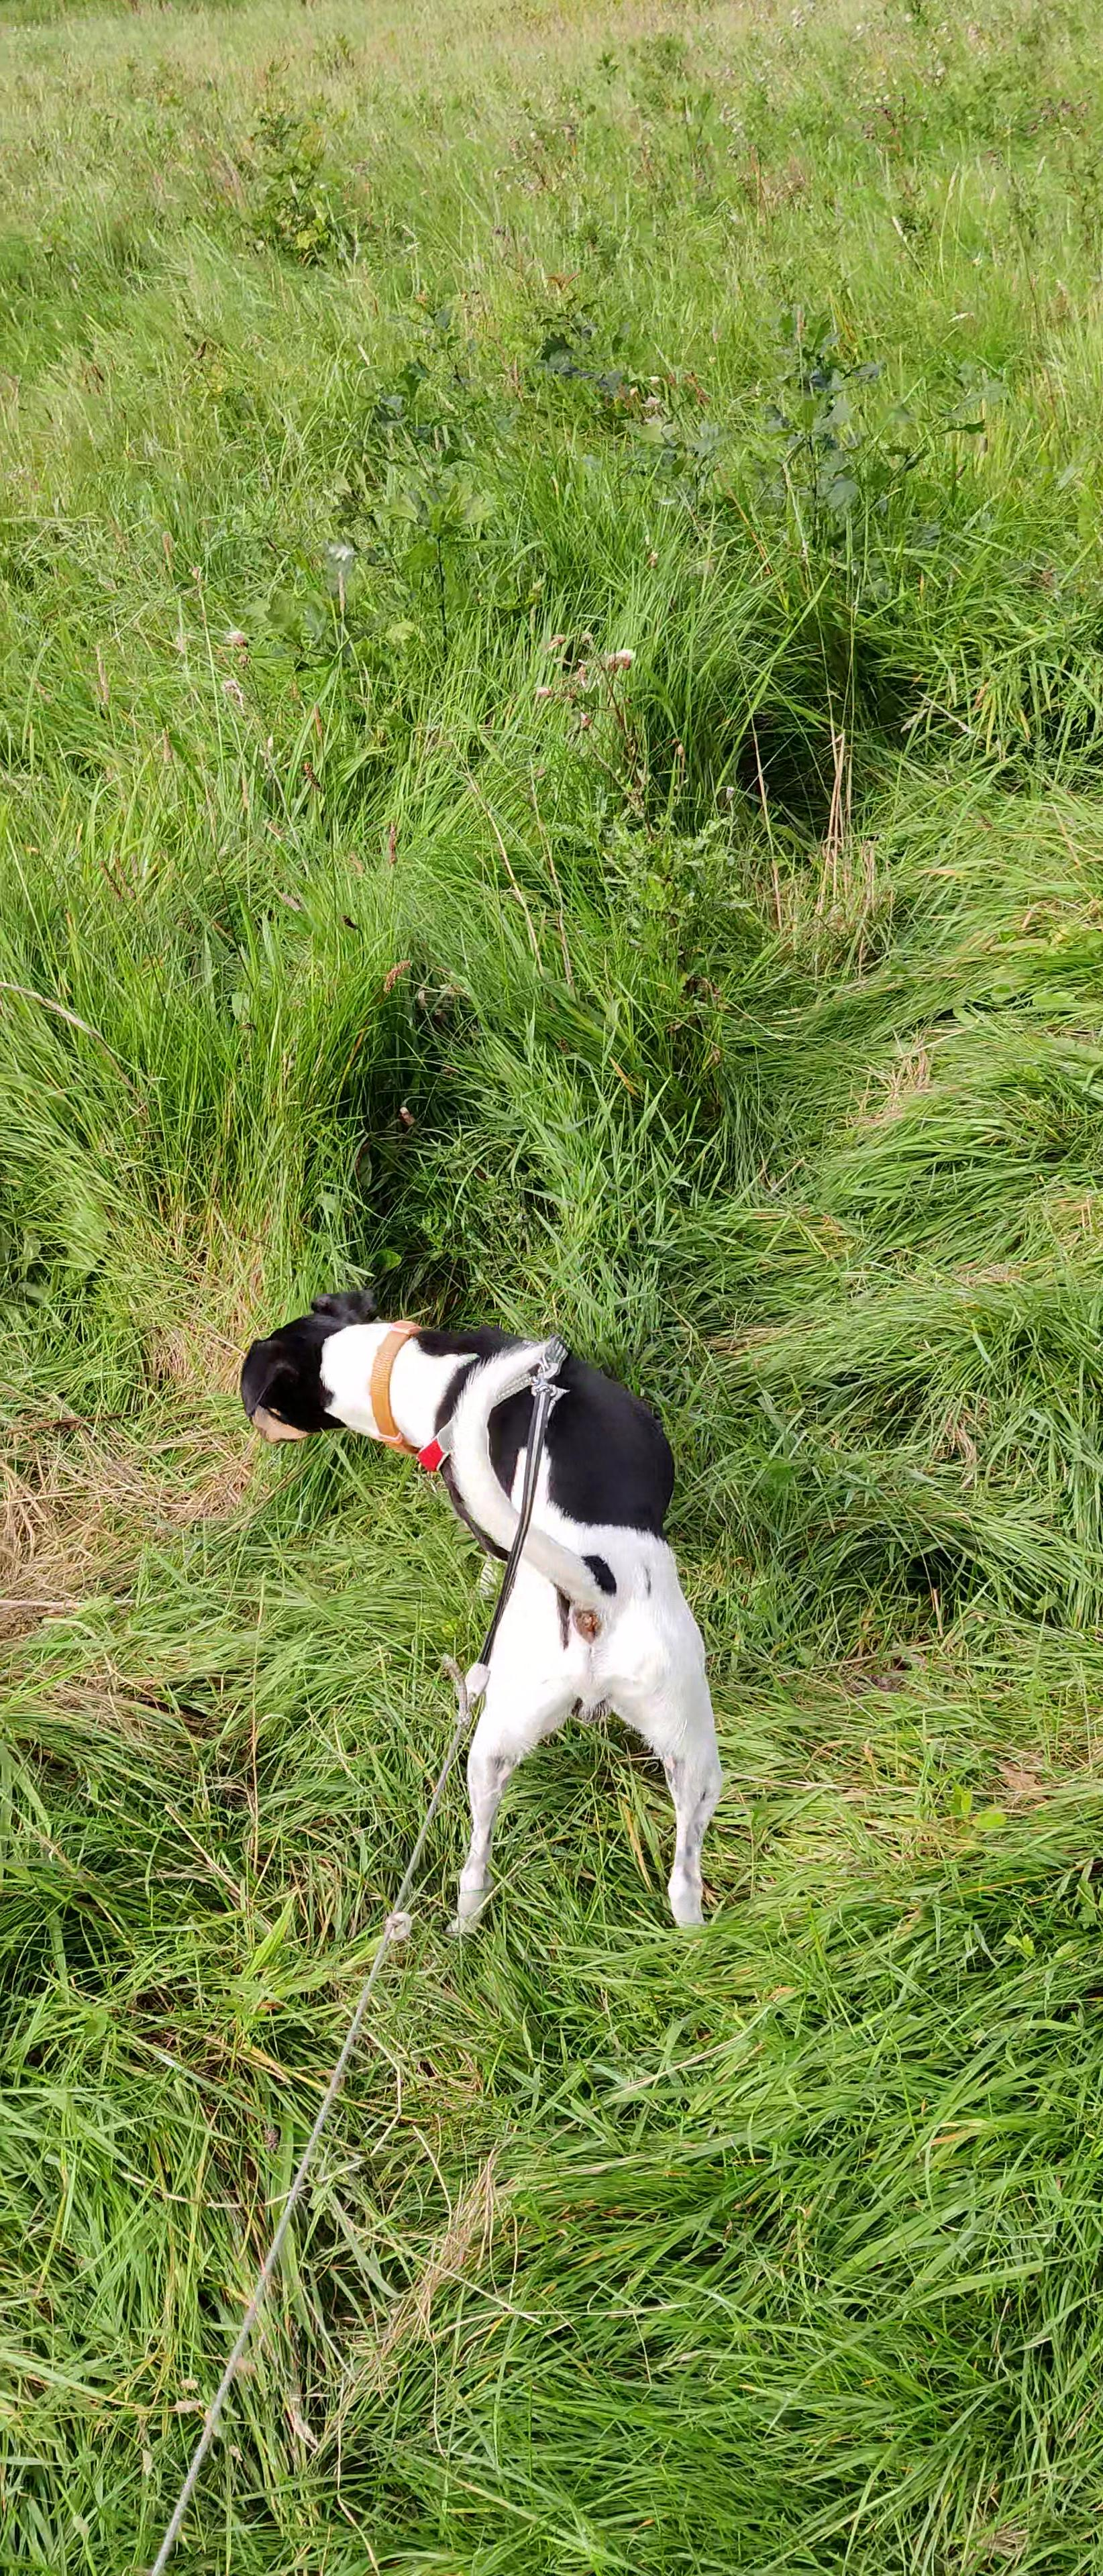Dog: (207, 1240, 761, 1958)
